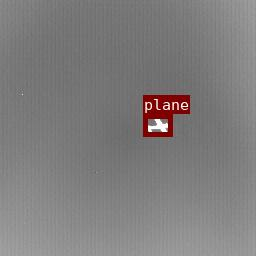plane: (143, 114, 172, 136)
